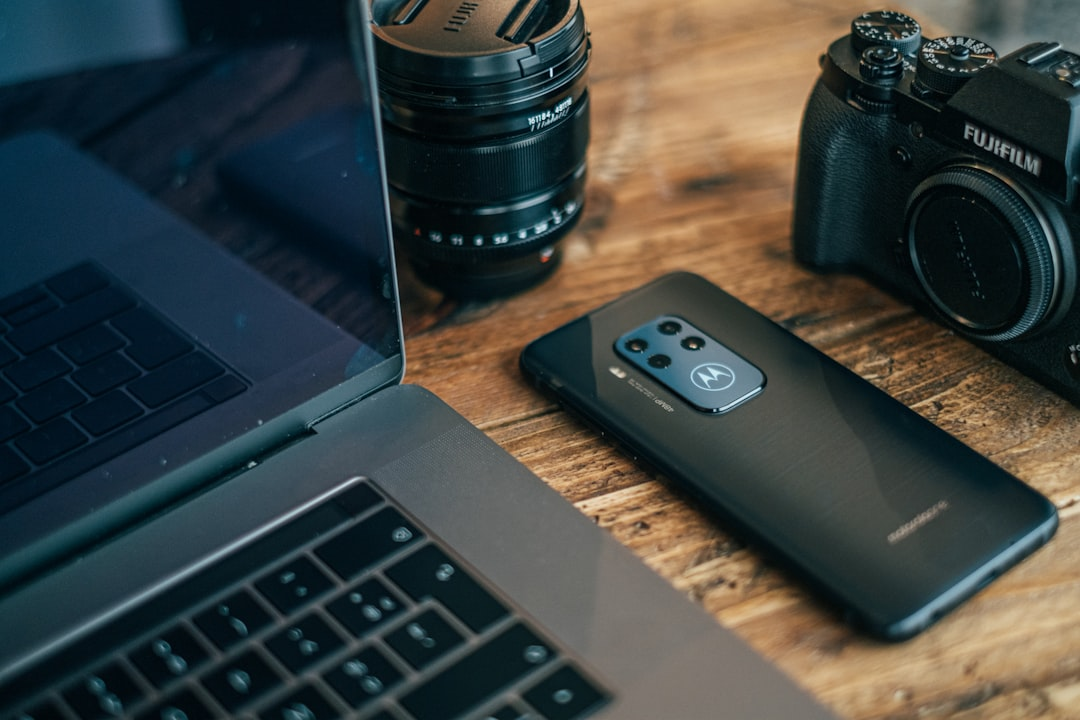phone: (519, 267, 1061, 647)
